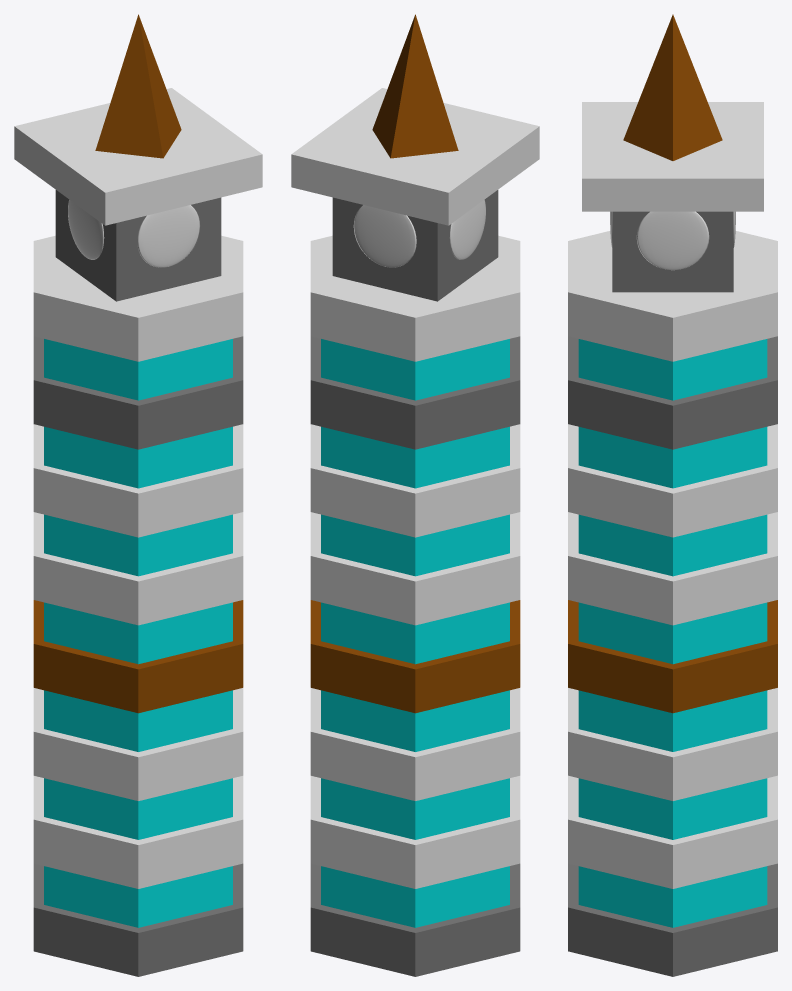
File: clocktower.fbx
3 views of the same model, side by side, from view 1: azimuth 30°, elevation 25°; view 2: azimuth 150°, elevation 25°; view 3: azimuth 270°, elevation 25° (orthographic).
Parts seen in each view (by area): view 1: pCylinder3 (×4), pCylinder1 (×4), pCylinder2 (×4), pCylinder4 (×3), pCube2, pCube1, pCone1, pSphere2, pSphere4; view 2: pCylinder3 (×4), pCylinder1 (×4), pCylinder2 (×4), pCylinder4 (×3), pCube2, pCube1, pCone1, pSphere1, pSphere4; view 3: pCylinder3 (×4), pCylinder1 (×4), pCylinder2 (×4), pCylinder4 (×3), pCube2, pCone1, pCube1, pSphere3.
Part boxes in pixels (<box>): pCylinder3 (×4): <box>33,235,243,888</box>; pCylinder1 (×4): <box>33,336,243,976</box>; pCylinder2 (×4): <box>44,339,232,927</box>; pCylinder4 (×3): <box>44,426,232,839</box>; pCube2: <box>14,88,262,225</box>; pCube1: <box>55,190,221,301</box>; pCone1: <box>95,14,181,158</box>; pSphere2: <box>137,205,200,267</box>; pSphere4: <box>68,200,104,259</box>; pCylinder3 (×4): <box>310,235,520,888</box>; pCylinder1 (×4): <box>310,336,520,976</box>; pCylinder2 (×4): <box>321,339,509,927</box>; pCylinder4 (×3): <box>321,426,509,839</box>; pCube2: <box>291,88,539,225</box>; pCube1: <box>332,190,498,301</box>; pCone1: <box>372,14,458,158</box>; pSphere1: <box>353,205,416,267</box>; pSphere4: <box>449,200,485,259</box>; pCylinder3 (×4): <box>568,231,777,888</box>; pCylinder1 (×4): <box>568,336,777,976</box>; pCylinder2 (×4): <box>578,339,767,927</box>; pCylinder4 (×3): <box>578,427,767,839</box>; pCube2: <box>582,102,763,211</box>; pCone1: <box>623,14,722,160</box>; pCube1: <box>612,211,733,292</box>; pSphere3: <box>636,211,709,270</box>.
Bounding box in the file's own units: 800 × 3320 × 693.
